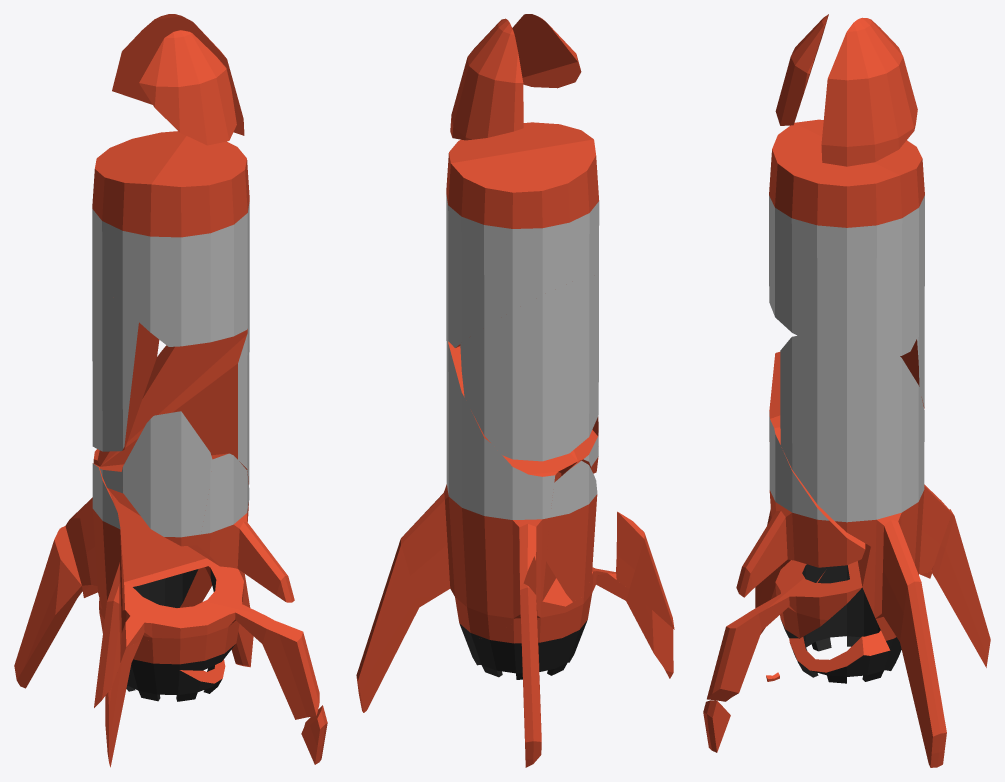
Rendered from RocketRollPieces.fbx.
3 renders of one model, left to right at view 1: azimuth 30°, elevation 25°; view 2: azimuth 150°, elevation 25°; view 3: azimuth 270°, elevation 25°, orthographic. The views are drawn at different scales.
Visible parts, largest first — view 1: 柱体_cell.005, 柱体_cell.003, 柱体_cell.007, 柱体_cell.012, 柱体_cell.008, 柱体_cell.009, 柱体_cell.002, 柱体_cell.011, 柱体_cell.004, 柱体_cell.013, 柱体_cell.014, 柱体_cell.006 (+2 smaller); view 2: 柱体_cell.005, 柱体_cell.009, 柱体_cell.008, 柱体_cell.007, 柱体_cell.004, 柱体_cell.014, 柱体_cell.006, 柱体_cell.002, 柱体_cell.015, 柱体_cell.013, 柱体_cell.011; view 3: 柱体_cell.005, 柱体_cell.007, 柱体_cell.008, 柱体_cell.014, 柱体_cell.011, 柱体_cell.003, 柱体_cell.004, 柱体_cell.013, 柱体_cell.002, 柱体_cell.010, 柱体_cell.009, 柱体_cell.012.
Part boxes in pixels (x1=…): 柱体_cell.005: x1=92, y1=131, x2=249, y2=346; 柱体_cell.003: x1=124, y1=558, x2=319, y2=719; 柱体_cell.007: x1=97, y1=317, x2=249, y2=484; 柱体_cell.012: x1=121, y1=411, x2=212, y2=546; 柱体_cell.008: x1=65, y1=449, x2=253, y2=667; 柱体_cell.009: x1=92, y1=271, x2=159, y2=451; 柱体_cell.002: x1=139, y1=30, x2=236, y2=145; 柱体_cell.011: x1=99, y1=453, x2=294, y2=602; 柱体_cell.004: x1=82, y1=585, x2=225, y2=767; 柱体_cell.013: x1=14, y1=526, x2=82, y2=688; 柱体_cell.014: x1=112, y1=14, x2=244, y2=135; 柱体_cell.006: x1=92, y1=463, x2=123, y2=612; 柱体_cell.005: x1=446, y1=122, x2=599, y2=347; 柱体_cell.009: x1=460, y1=275, x2=598, y2=461; 柱体_cell.008: x1=356, y1=462, x2=561, y2=712; 柱体_cell.007: x1=399, y1=324, x2=577, y2=564; 柱体_cell.004: x1=464, y1=571, x2=673, y2=679; 柱体_cell.014: x1=450, y1=18, x2=523, y2=140; 柱体_cell.006: x1=546, y1=460, x2=597, y2=601; 柱体_cell.002: x1=512, y1=14, x2=581, y2=88; 柱体_cell.015: x1=616, y1=511, x2=674, y2=629; 柱体_cell.013: x1=520, y1=583, x2=541, y2=767; 柱体_cell.011: x1=561, y1=430, x2=598, y2=475; 柱体_cell.005: x1=769, y1=119, x2=924, y2=358; 柱体_cell.007: x1=780, y1=335, x2=924, y2=599; 柱体_cell.008: x1=858, y1=433, x2=951, y2=767; 柱体_cell.014: x1=821, y1=17, x2=917, y2=166; 柱体_cell.011: x1=736, y1=415, x2=865, y2=597; 柱体_cell.003: x1=707, y1=560, x2=862, y2=701; 柱体_cell.004: x1=755, y1=559, x2=931, y2=683; 柱体_cell.013: x1=931, y1=509, x2=990, y2=667; 柱体_cell.002: x1=775, y1=14, x2=828, y2=125; 柱体_cell.010: x1=703, y1=700, x2=730, y2=752; 柱体_cell.009: x1=900, y1=301, x2=924, y2=408; 柱体_cell.012: x1=769, y1=352, x2=780, y2=440.
Size of the model in its own units: 214 by 596 by 222.
